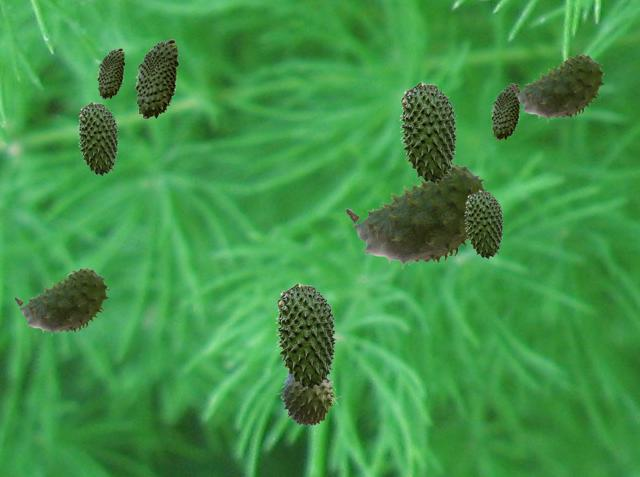guyabano: (345, 164, 488, 268), (275, 282, 336, 389), (510, 54, 604, 121), (14, 268, 108, 335), (399, 81, 457, 183), (135, 39, 178, 118), (277, 372, 340, 425), (77, 101, 118, 175), (464, 189, 503, 258), (491, 84, 520, 139), (97, 48, 124, 98)
